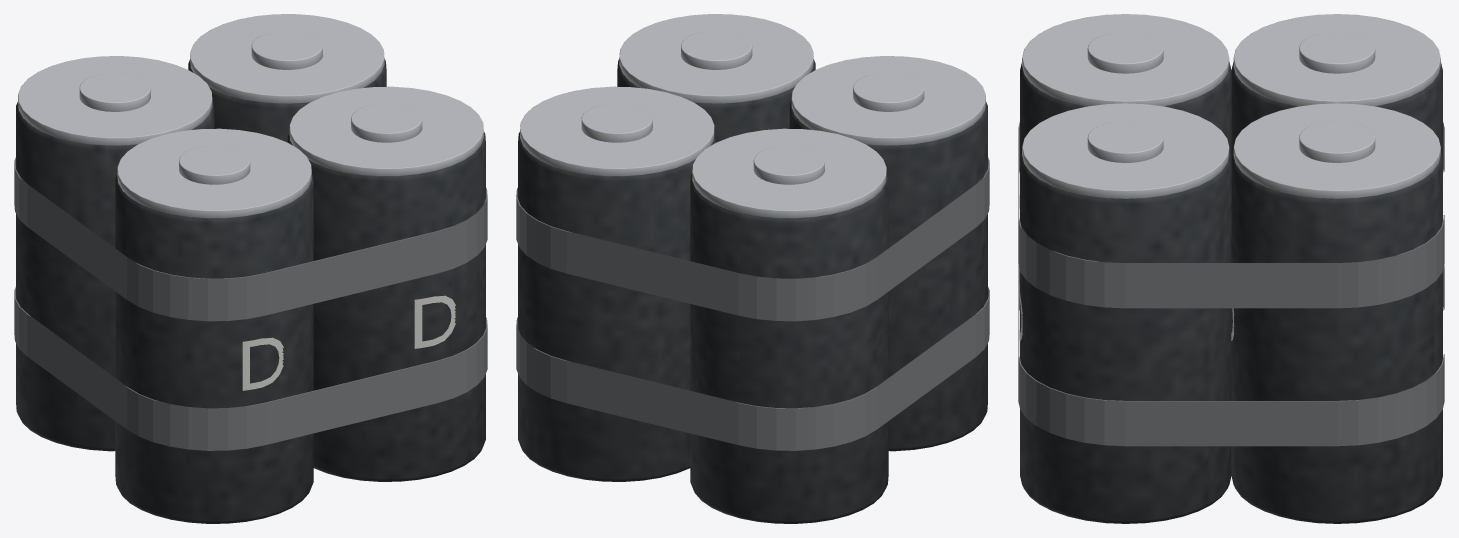
Rendered from BatteryPackLarge-v1.fbx.
3 views of the same model, side by side, from view 1: azimuth 30°, elevation 25°; view 2: azimuth 150°, elevation 25°; view 3: azimuth 270°, elevation 25° (orthographic). The views are drawn at different scales.
Visible parts, largest first — view 1: PW_BatteryPackLarge; view 2: PW_BatteryPackLarge; view 3: PW_BatteryPackLarge.
Boxes of the visible parts, left/top/right/bottom form: PW_BatteryPackLarge: left=14, top=14, right=487, bottom=523; PW_BatteryPackLarge: left=516, top=14, right=989, bottom=523; PW_BatteryPackLarge: left=1018, top=14, right=1444, bottom=523.
Size of the model in its own units: 6.9 by 6.15 by 6.9.
Materials: 1 (1 with a texture image).
